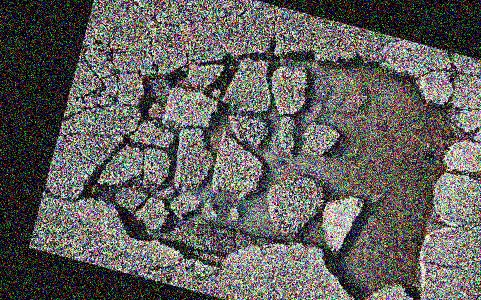pothole: (61, 0, 481, 300)
